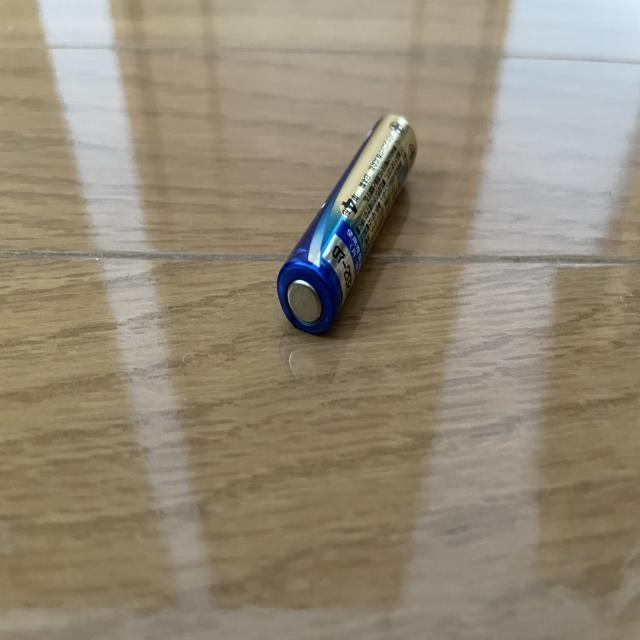AAA: (272, 114, 419, 334)
